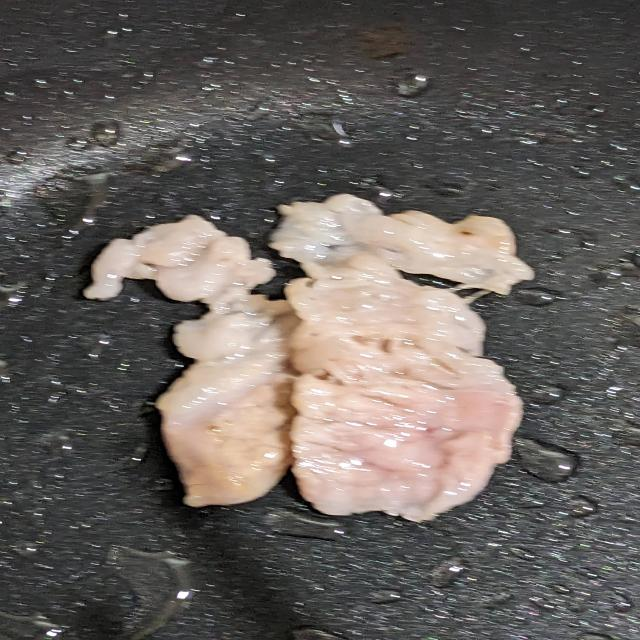NG undercooked pork,: (74, 186, 542, 529)
